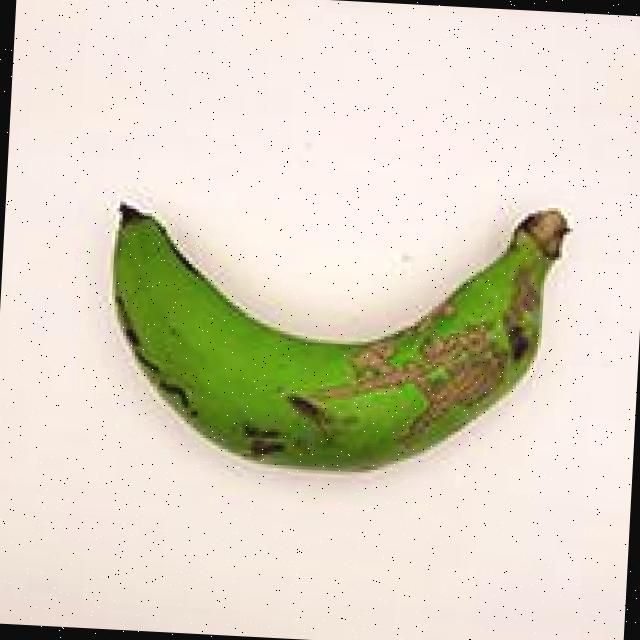Raw: (68, 148, 606, 524)
